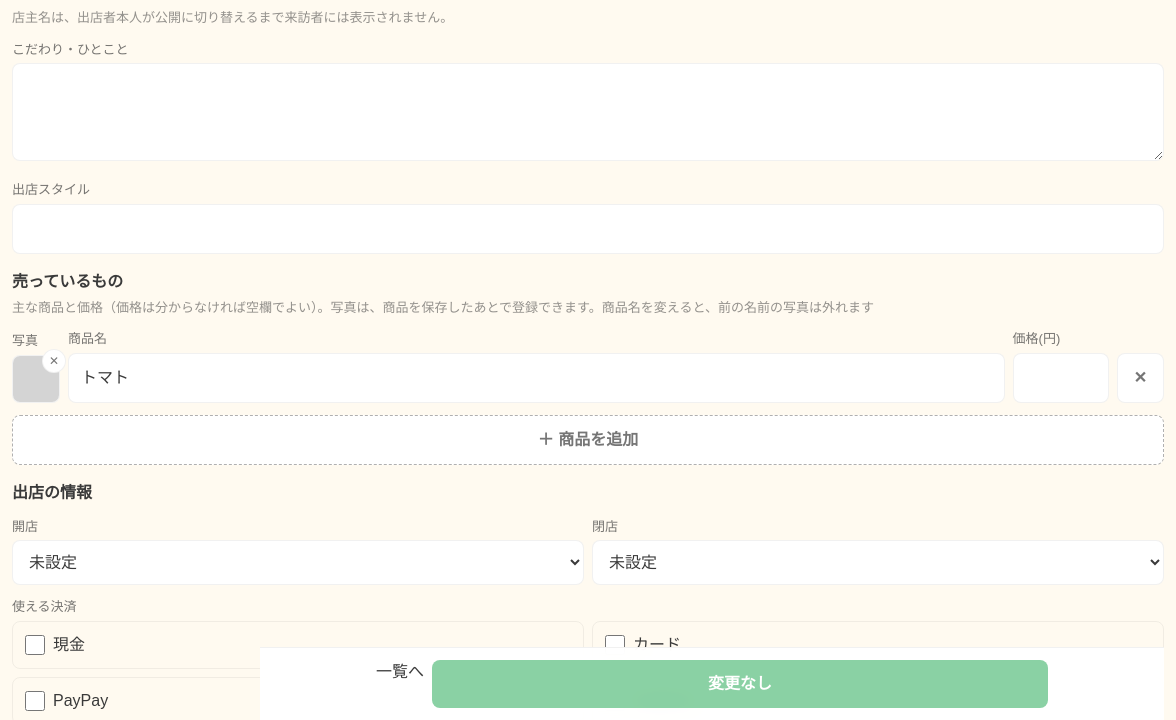
it: FieldShopEditor › 商品の写真を外すと、DELETE で商品名を送る
(page scrolled)
Click the button named "トマトの写真を外す" at (54, 360), box [42,348,66,372]
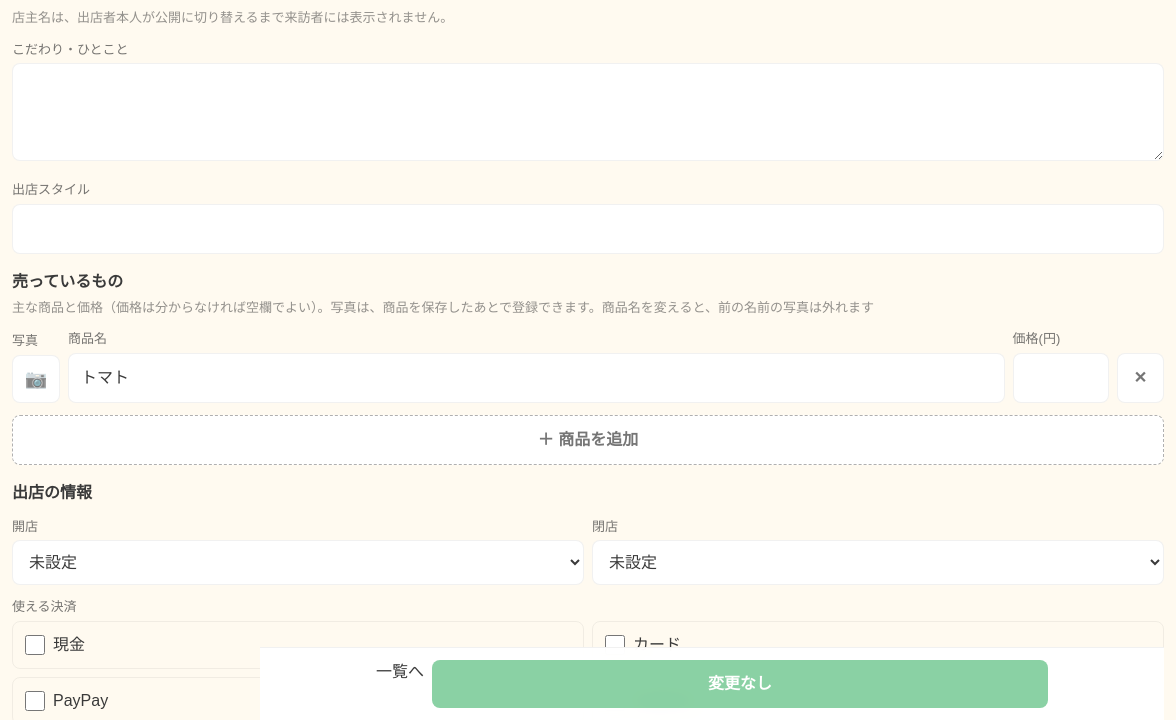
Check: the button "トマトの写真を外す" is gone
